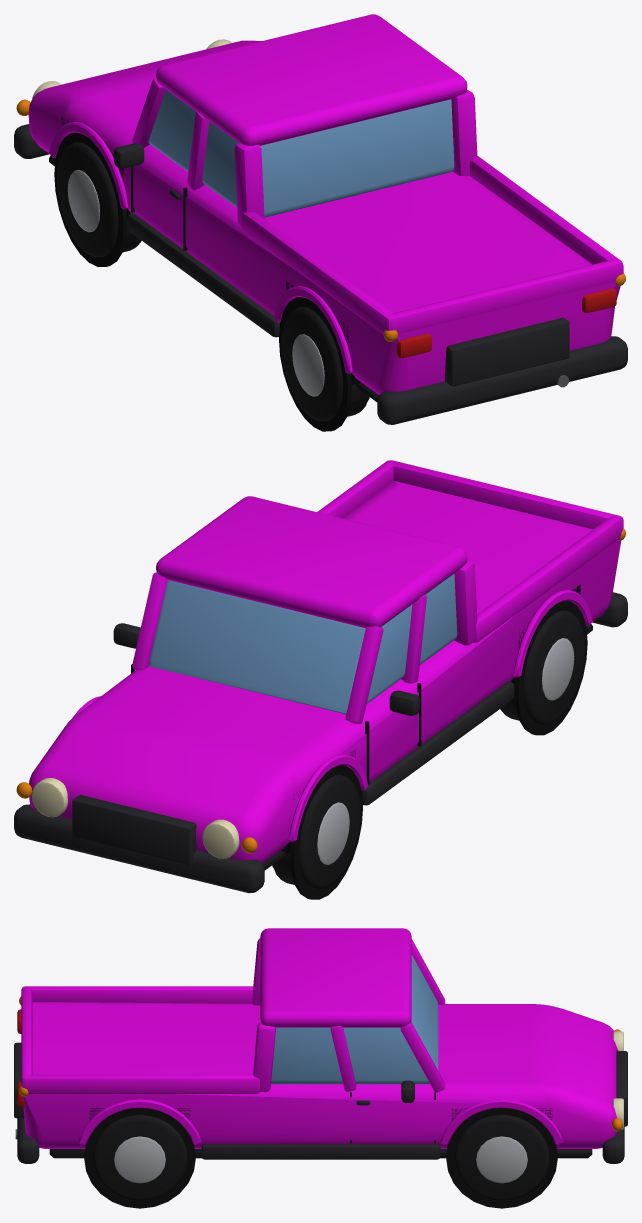
Rendered from BrambleLonghorn.fbx.
The picture shows the model from 3 angles, top to bottom: view 1: azimuth 30°, elevation 25°; view 2: azimuth 150°, elevation 25°; view 3: azimuth 270°, elevation 25°; orthographic projection. The views are drawn at different scales.
Parts seen in each view (by area): view 1: BrambleLonghorn; view 2: BrambleLonghorn; view 3: BrambleLonghorn.
Boxes of the visible parts, box(x1,y1,x2,y2) form: BrambleLonghorn: box(14, 14, 627, 431); BrambleLonghorn: box(14, 460, 627, 899); BrambleLonghorn: box(14, 928, 627, 1208).
Bounding box in the file's own units: 2.49 × 1.87 × 5.43.
